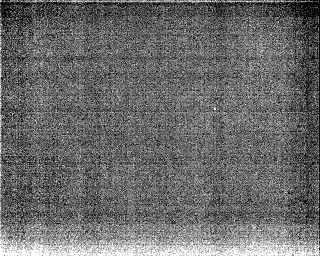BIRD: (212, 105, 218, 113)
